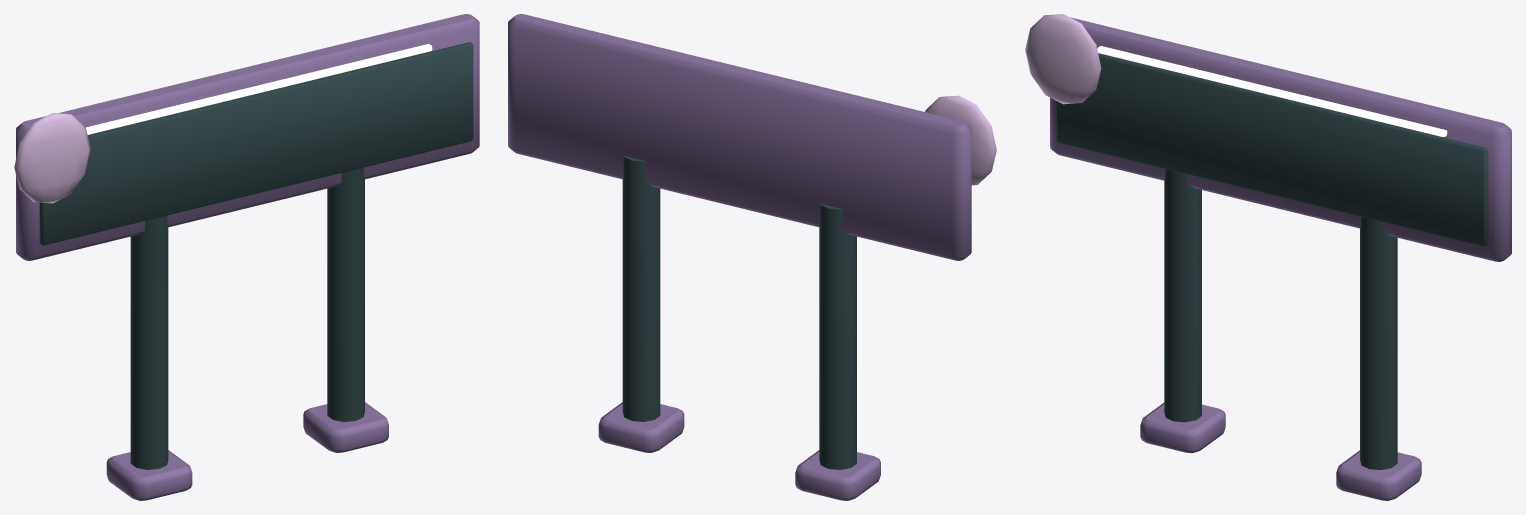
File: billboard_4.glb
The picture shows the model from 3 angles, left to right: view 1: azimuth 30°, elevation 25°; view 2: azimuth 150°, elevation 25°; view 3: azimuth 330°, elevation 25°; orthographic projection.
Parts seen in each view (by area): view 1: Billboard; view 2: Billboard; view 3: Billboard.
Part boxes in pixels (x1,y1,x2,y2): Billboard: (14, 14, 479, 500); Billboard: (508, 14, 996, 500); Billboard: (1025, 14, 1511, 500).
Size of the model in its own units: 4.91 by 4.02 by 0.6364.
